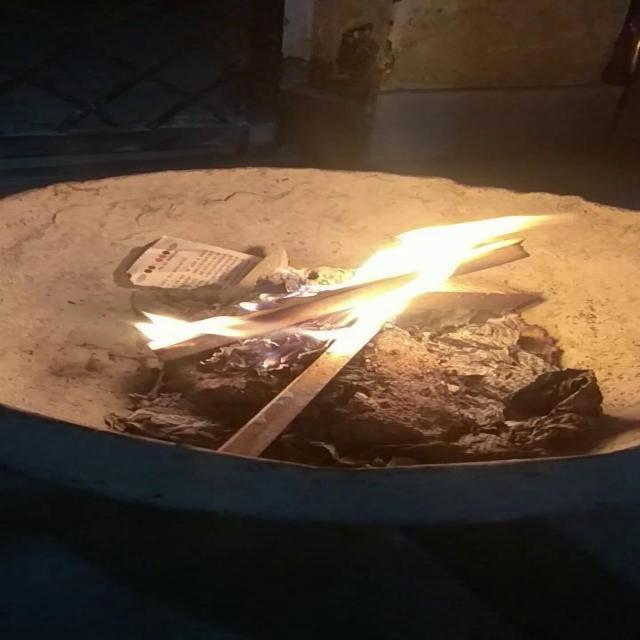fire: (121, 203, 567, 366)
